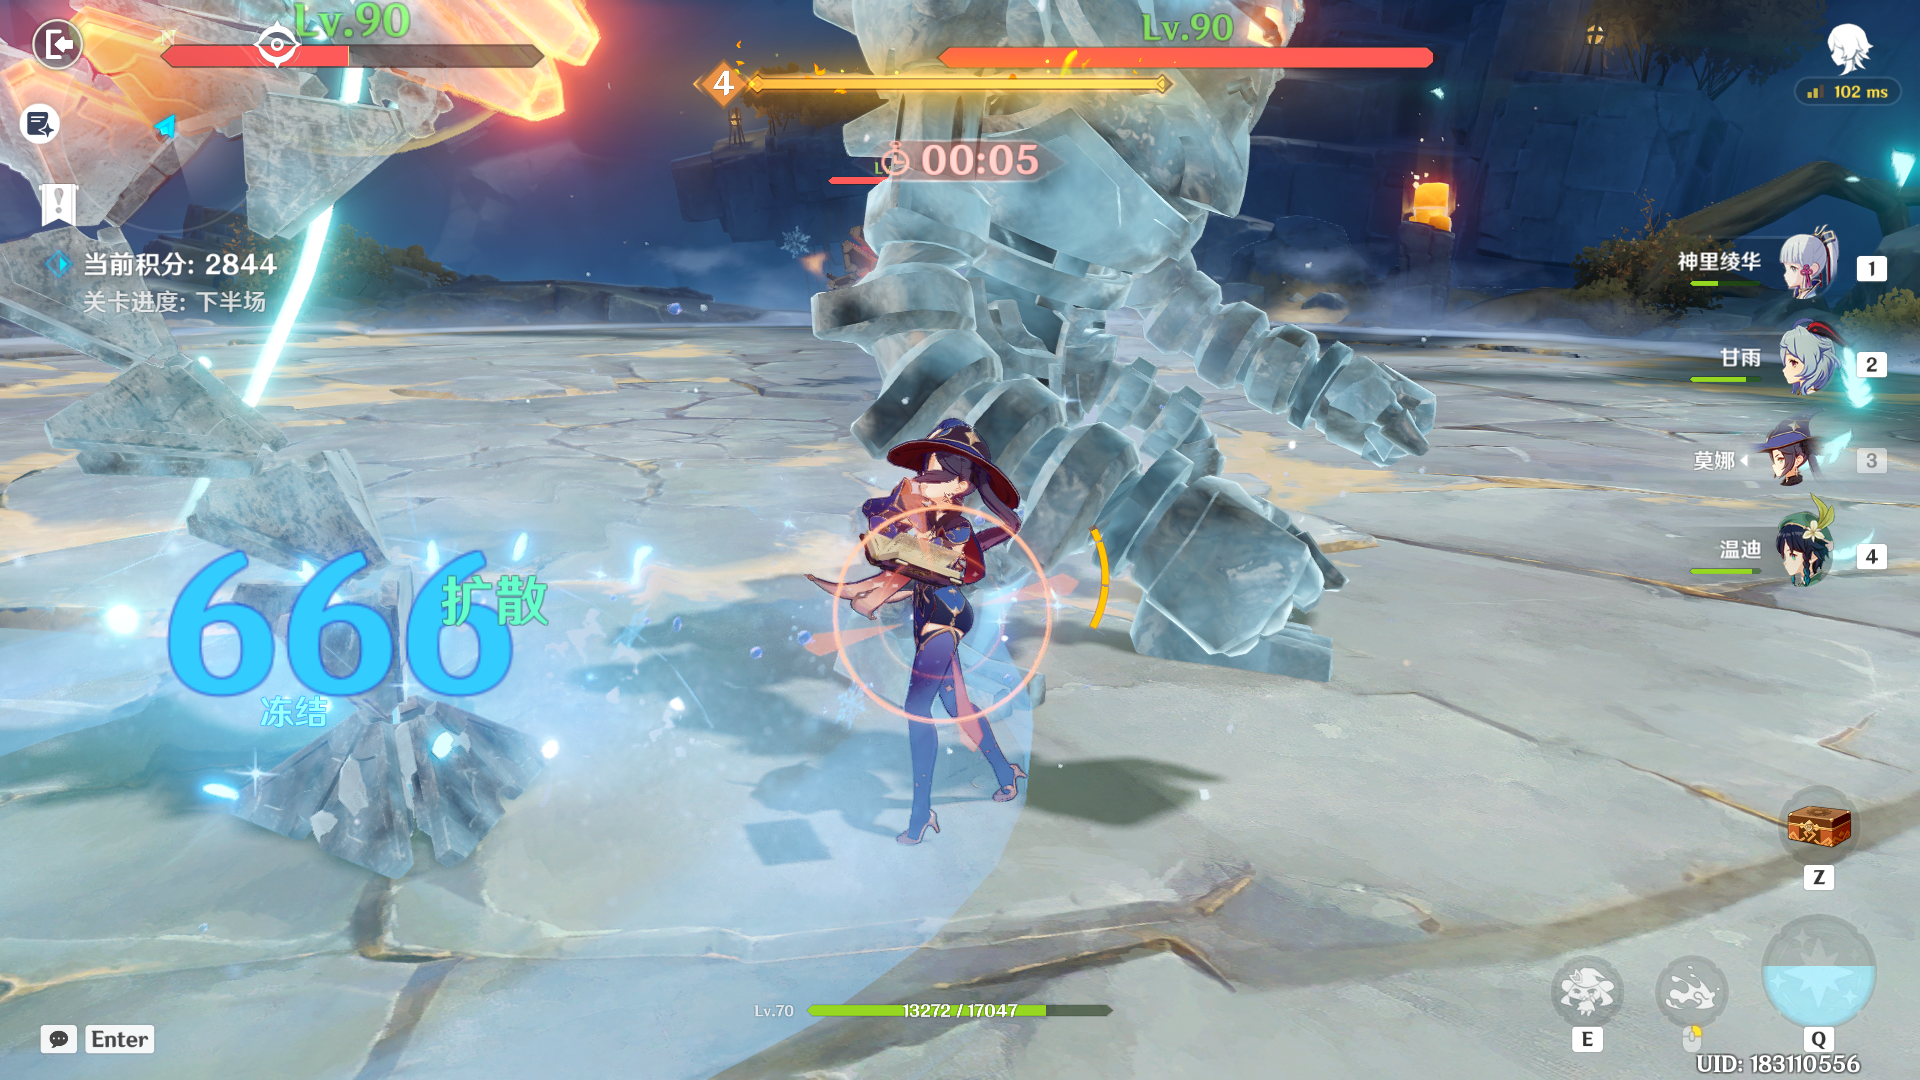character: (782, 392, 1155, 874)
